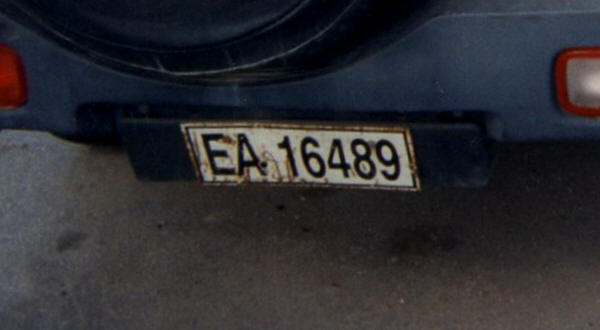license_plate: (178, 122, 422, 193)
